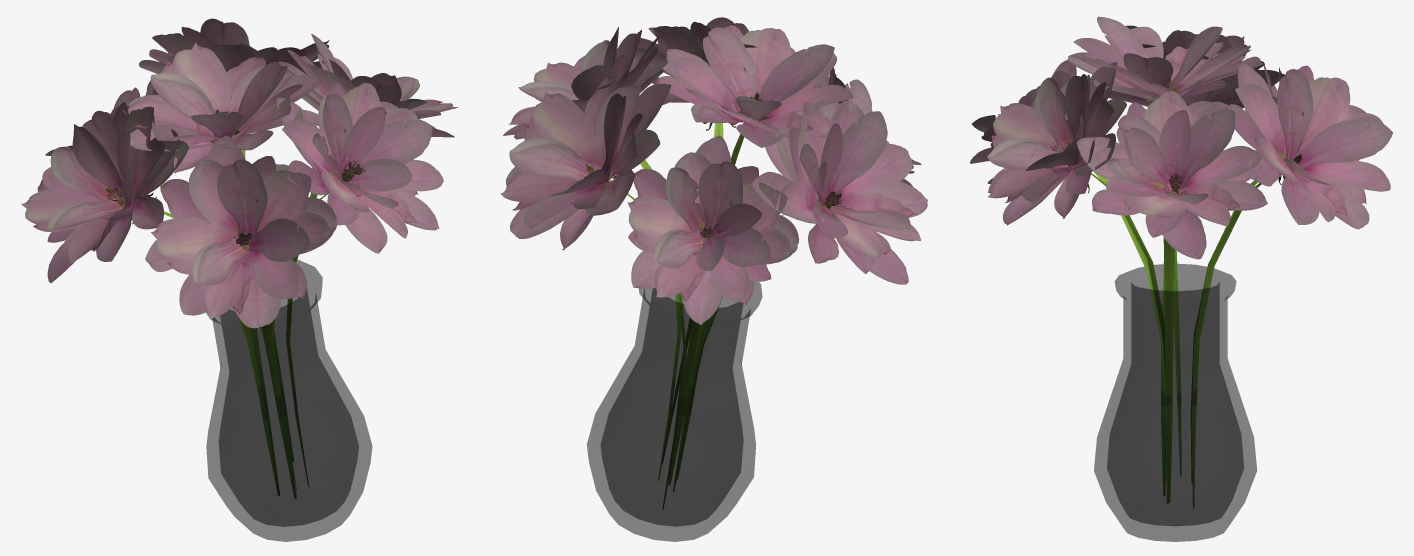
File: magnolia_in_a_vase.glb
3 renders of one model, left to right at view 1: azimuth 30°, elevation 25°; view 2: azimuth 150°, elevation 25°; view 3: azimuth 270°, elevation 25°, orthographic. The views are drawn at different scales.
Parts seen in each view (by area): view 1: flowers_magnolia_003; view 2: flowers_magnolia_003; view 3: flowers_magnolia_003.
Boxes of the visible parts, bbox=[...] form: flowers_magnolia_003: bbox=[21, 18, 458, 541]; flowers_magnolia_003: bbox=[500, 17, 927, 541]; flowers_magnolia_003: bbox=[970, 16, 1392, 541].
Size of the model in its own units: 525 by 599 by 506.
Materials: 4 (2 with a texture image).
